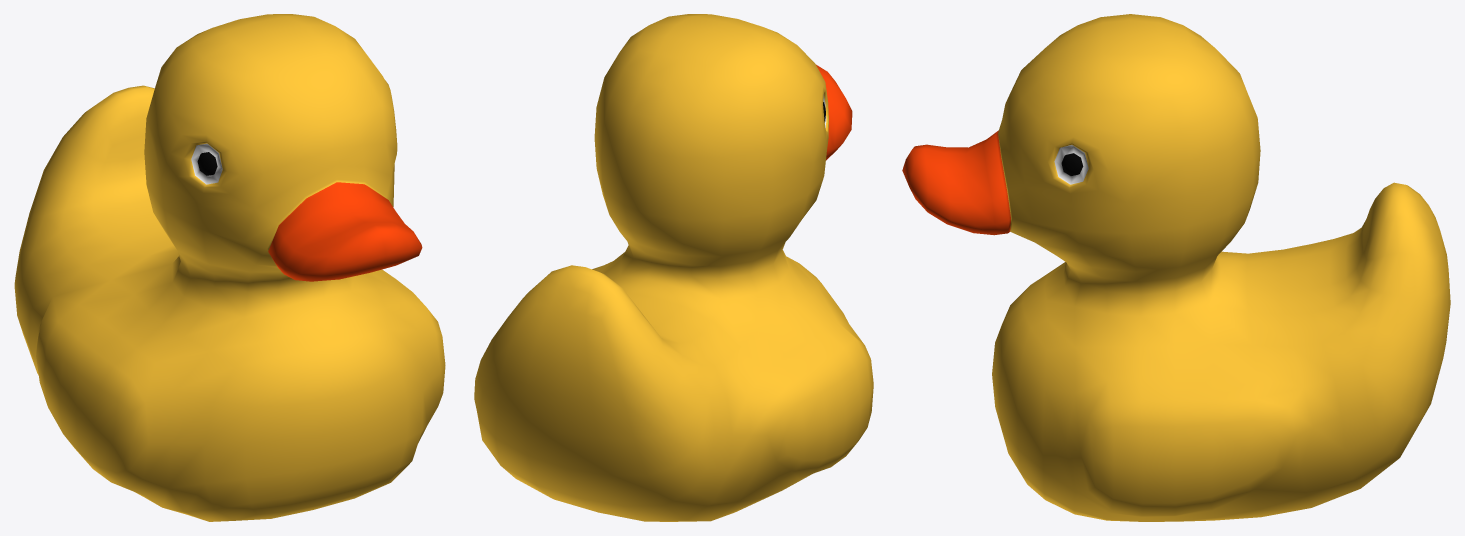
The model's file is duck-transformed.glb.
3 renders of one model, left to right at view 1: azimuth 30°, elevation 25°; view 2: azimuth 150°, elevation 25°; view 3: azimuth 270°, elevation 25°, orthographic. The views are drawn at different scales.
Parts seen in each view (by area): view 1: Rubber Duck; view 2: Rubber Duck; view 3: Rubber Duck.
Boxes of the visible parts, x1,y1,x2,y2 form: Rubber Duck: (14, 14, 445, 521); Rubber Duck: (474, 14, 873, 521); Rubber Duck: (902, 14, 1450, 521).
Bounding box in the file's own units: 0.2398 × 0.3092 × 0.3428.
